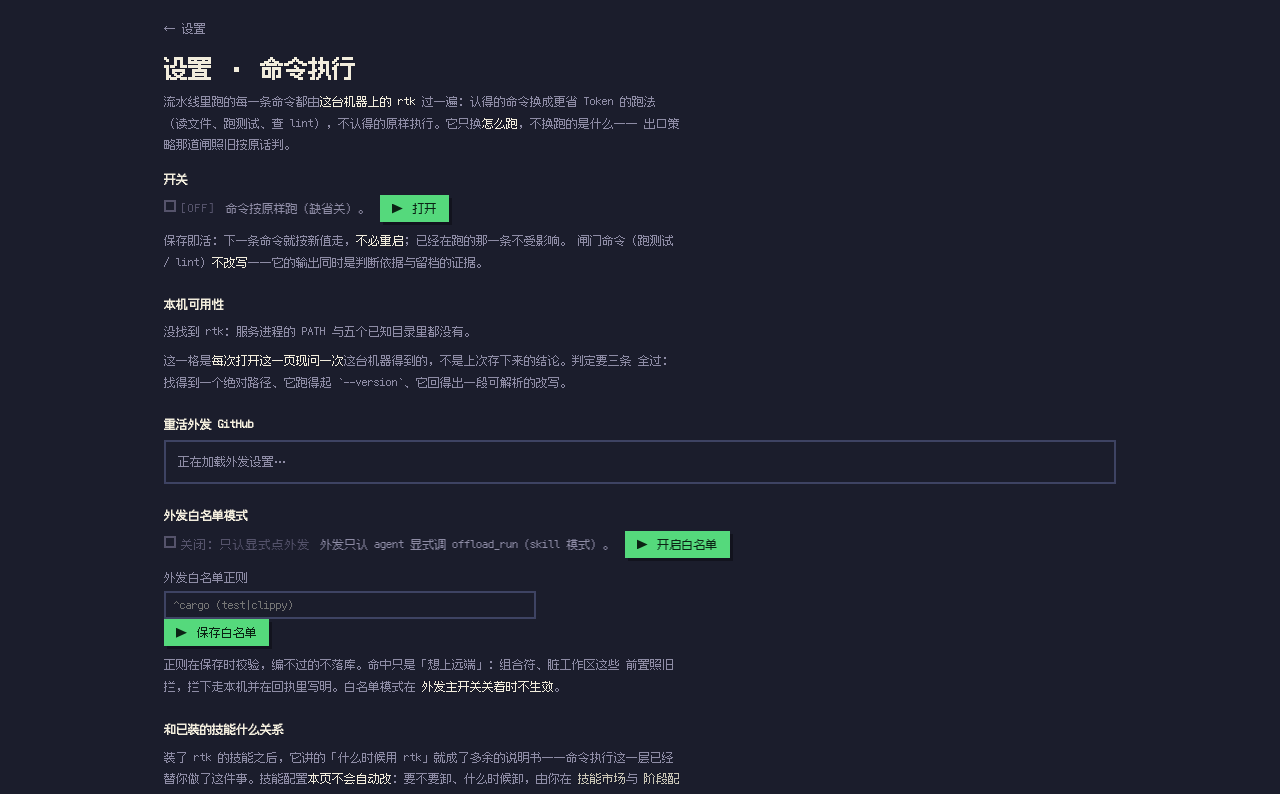
Test: 命令执行页（决策 297 / 票 05） › 打开：保存后以重读到的读数为准，成功那条说「本机可用」
The image size is (1280, 794).
Expected: the heading "设置 · 命令执行" is shown, [164,54,356,83]
Click the button "打开": (414, 209) [380,195,449,222]
(page scrolled)
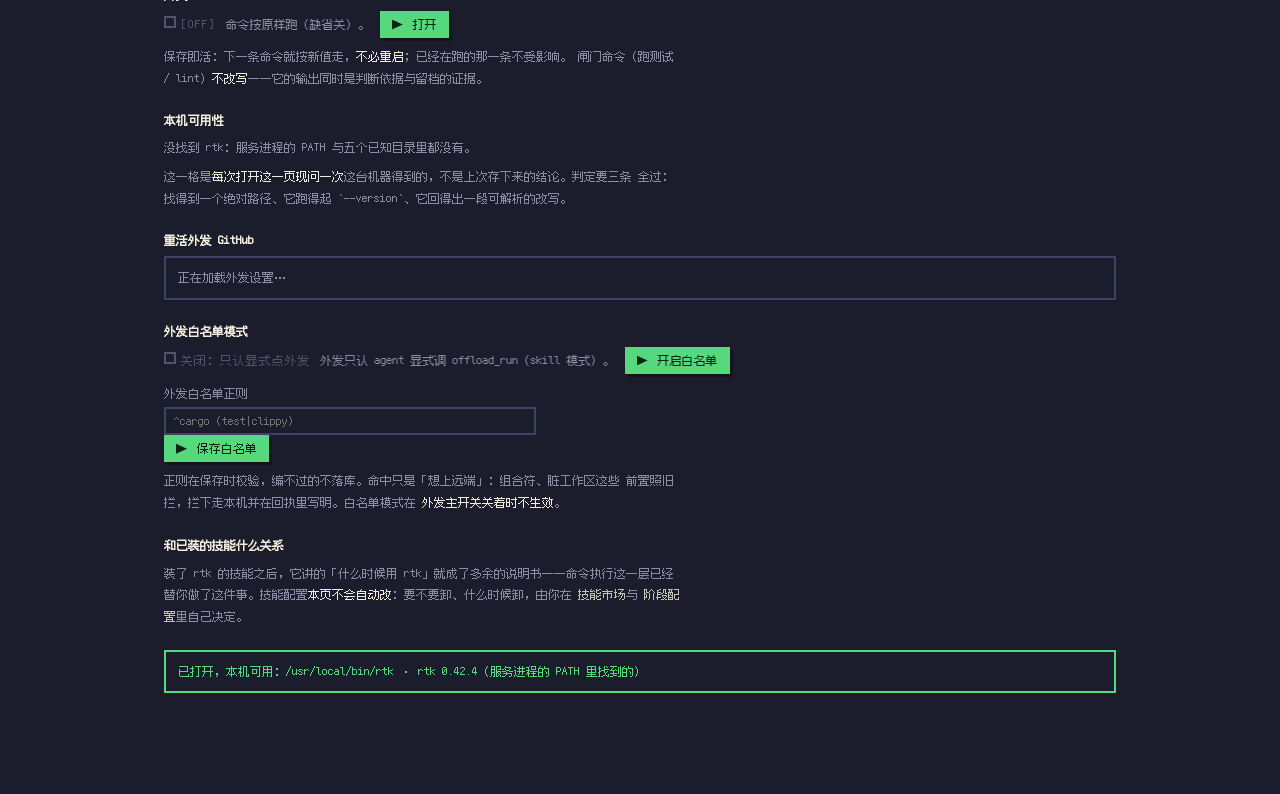
Expected: the message shows "本机可用", [178,665,646,677]
